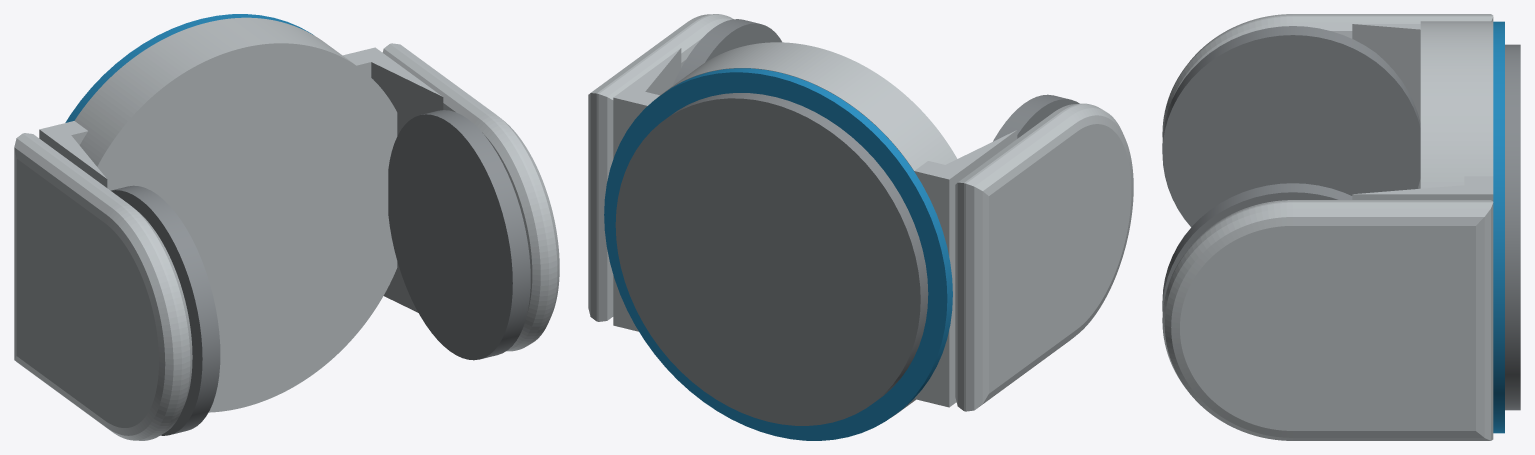
File: rg6_v2_gripper_bracket.obj
The picture shows the model from 3 angles, left to right: view 1: azimuth 30°, elevation 25°; view 2: azimuth 150°, elevation 25°; view 3: azimuth 270°, elevation 25°; orthographic projection. The views are drawn at different scales.
Parts seen in each view (by area): view 1: bracket_base, tilt_cheek_-1, tilt_disc_1, tilt_cheek_1, tilt_disc_-1, cheek_gusset_1, qc_blue_ring, cheek_gusset_-1, cheek_foot_-1, cheek_foot_1; view 2: qc_spigot, tilt_cheek_-1, qc_blue_ring, bracket_base, tilt_cheek_1, cheek_foot_-1, tilt_disc_1, cheek_foot_1, tilt_disc_-1, cheek_gusset_1, cheek_gusset_-1; view 3: tilt_cheek_1, tilt_disc_-1, bracket_base, qc_spigot, qc_blue_ring, tilt_cheek_-1, tilt_disc_1, cheek_gusset_-1, cheek_gusset_1, cheek_foot_1.
Part boxes in pixels (<box>): bracket_base: <box>74,17,397,412</box>; tilt_cheek_-1: <box>14,133,192,440</box>; tilt_disc_1: <box>388,110,530,360</box>; tilt_cheek_1: <box>382,43,559,351</box>; tilt_disc_-1: <box>111,185,220,435</box>; cheek_gusset_1: <box>371,57,443,312</box>; qc_blue_ring: <box>65,14,312,122</box>; cheek_gusset_-1: <box>53,135,107,187</box>; cheek_foot_-1: <box>39,121,87,148</box>; cheek_foot_1: <box>343,47,388,77</box>; qc_spigot: <box>615,93,928,425</box>; tilt_cheek_-1: <box>955,103,1133,411</box>; qc_blue_ring: <box>604,68,952,440</box>; bracket_base: <box>659,42,957,417</box>; tilt_cheek_1: <box>588,14,733,321</box>; cheek_foot_-1: <box>914,161,963,407</box>; tilt_disc_1: <box>673,19,781,85</box>; cheek_foot_1: <box>613,87,659,331</box>; tilt_disc_-1: <box>993,94,1079,141</box>; cheek_gusset_1: <box>628,48,681,95</box>; cheek_gusset_-1: <box>946,130,1017,177</box>; tilt_cheek_1: <box>1162,200,1493,440</box>; tilt_disc_-1: <box>1162,26,1420,227</box>; bracket_base: <box>1420,21,1493,188</box>; qc_spigot: <box>1505,44,1520,410</box>; qc_blue_ring: <box>1493,21,1504,433</box>; tilt_cheek_-1: <box>1162,14,1493,137</box>; tilt_disc_1: <box>1162,183,1352,311</box>; cheek_gusset_-1: <box>1352,24,1420,188</box>; cheek_gusset_1: <box>1352,185,1464,199</box>; cheek_foot_1: <box>1464,176,1493,201</box>.
Size of the model in its own units: 0.0823 by 0.071 by 0.0617.
